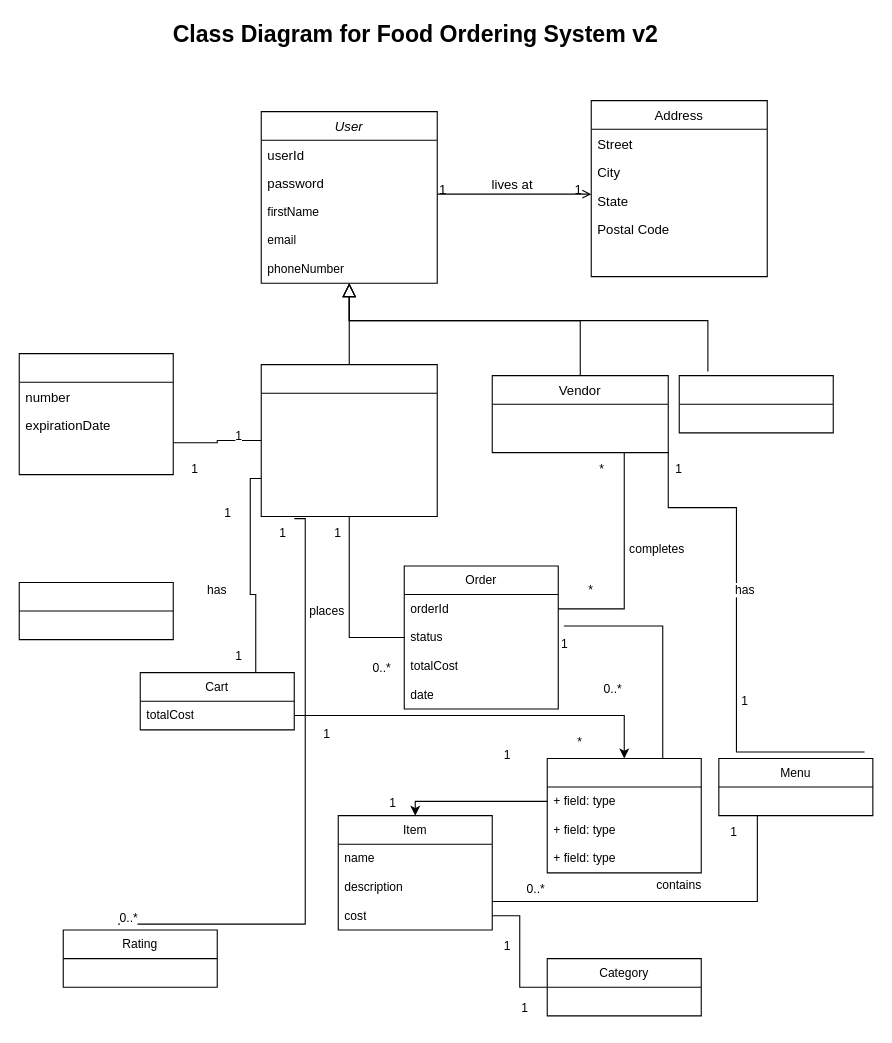
Some shapes in this 892 by 1043 pixel diagram are drawn without their labels. Each missing label, with the box of its shape:
Admin: (678, 375, 833, 433)
CreditcCard: (18, 353, 173, 475)
Customer: (260, 364, 437, 516)
OrderLine: (546, 757, 701, 873)
Payment: (18, 581, 173, 640)
